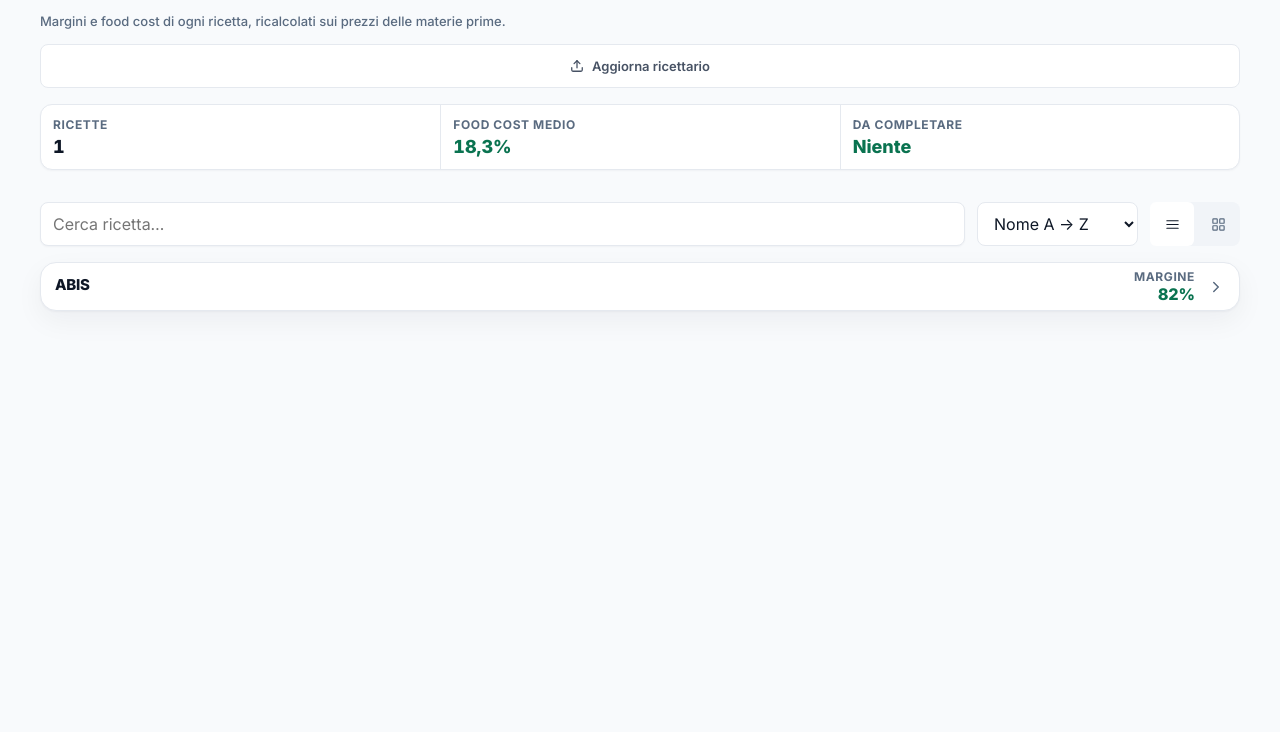
Test case: Ricettario — pulizia › al telefono la tabella ingredienti sta nello schermo: senza la colonna «€ / g»
Click the text "ABIS": coordinates (72, 285) [55,275,90,294]
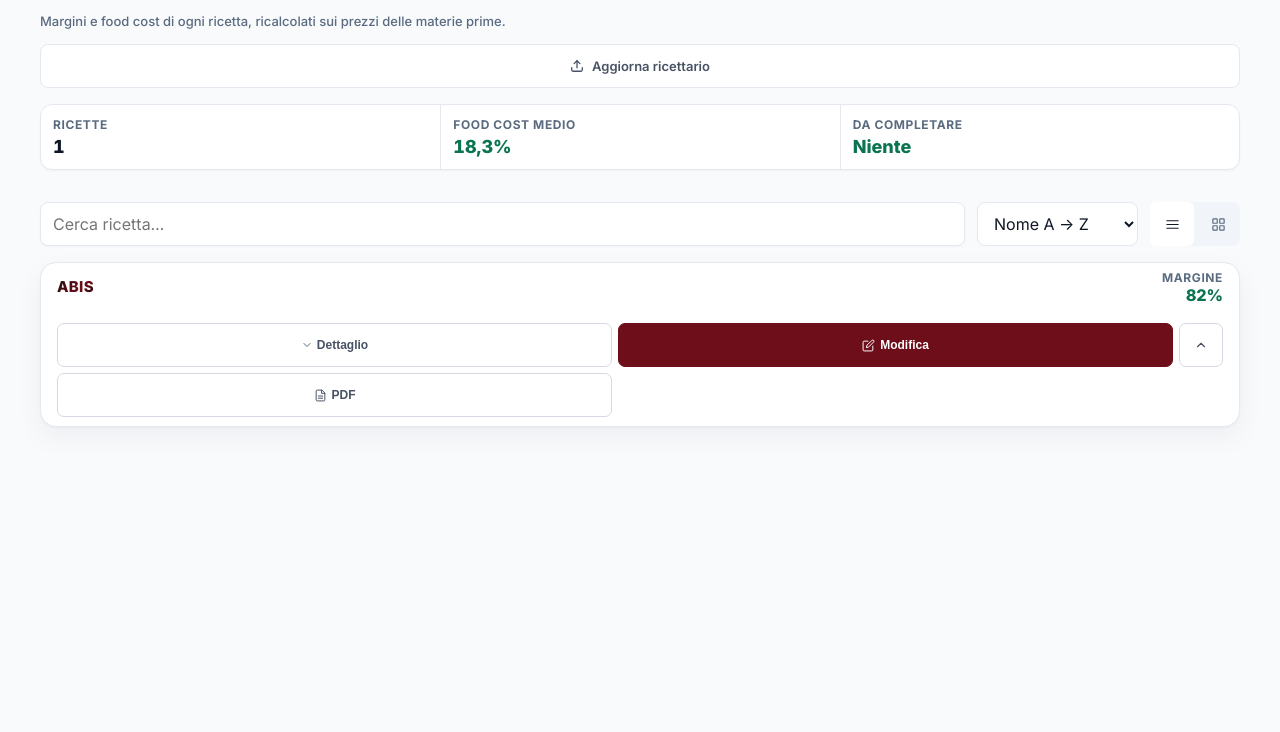
Click the button "Dettaglio": coordinates (334, 345) [57,323,612,367]
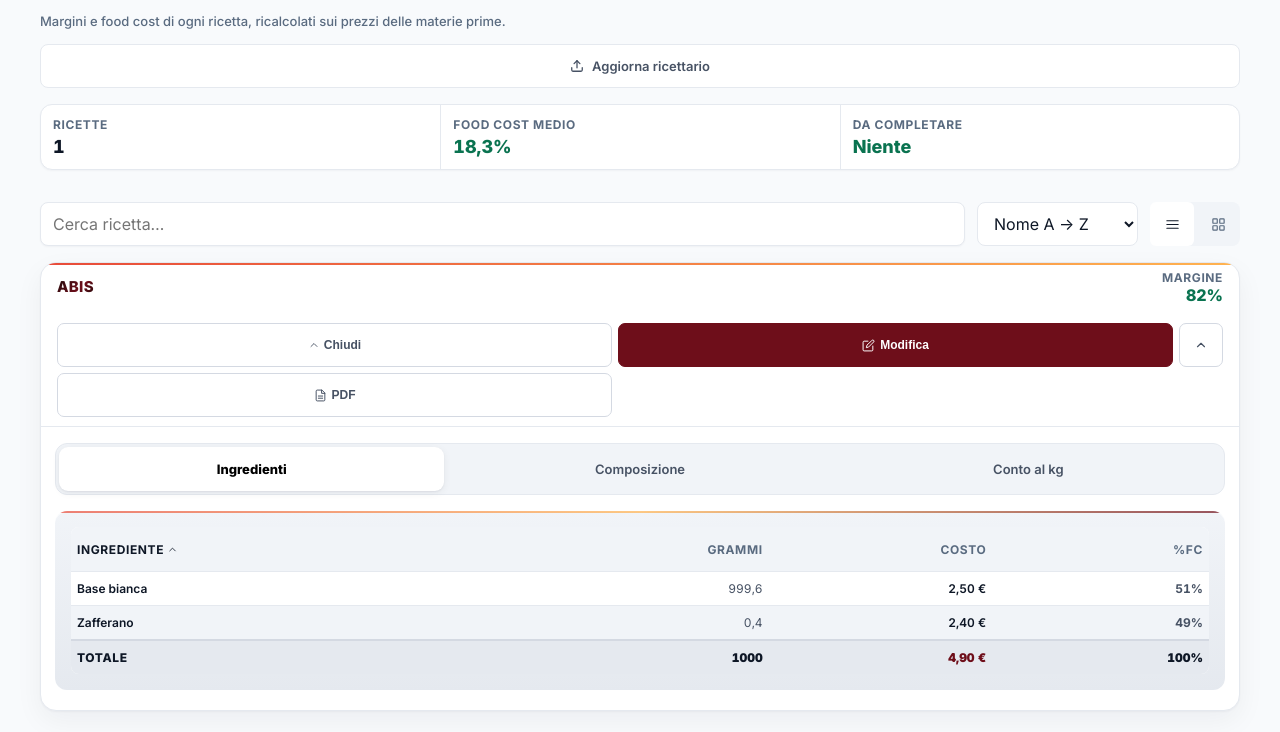
Expected: the text "Costo" is shown, [940,542,986,557]
